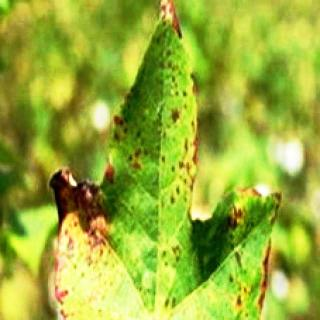leaf spot: (51, 15, 280, 320)
